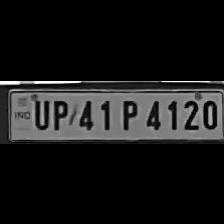0: (198, 96, 218, 130)
1: (96, 96, 114, 130), (162, 96, 180, 130)
2: (179, 96, 199, 130)
4: (71, 96, 95, 130), (140, 96, 164, 130)
P: (114, 96, 140, 130), (48, 96, 70, 130)
U: (31, 95, 50, 129)
